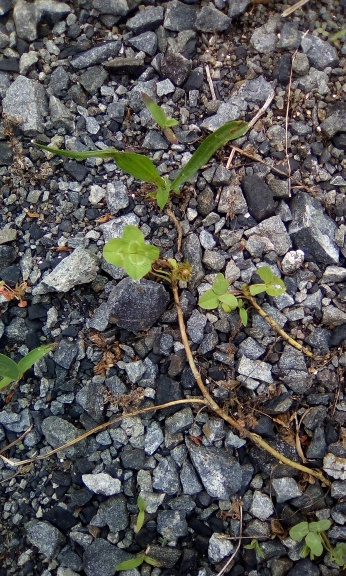4leaf: (101, 223, 161, 282)
